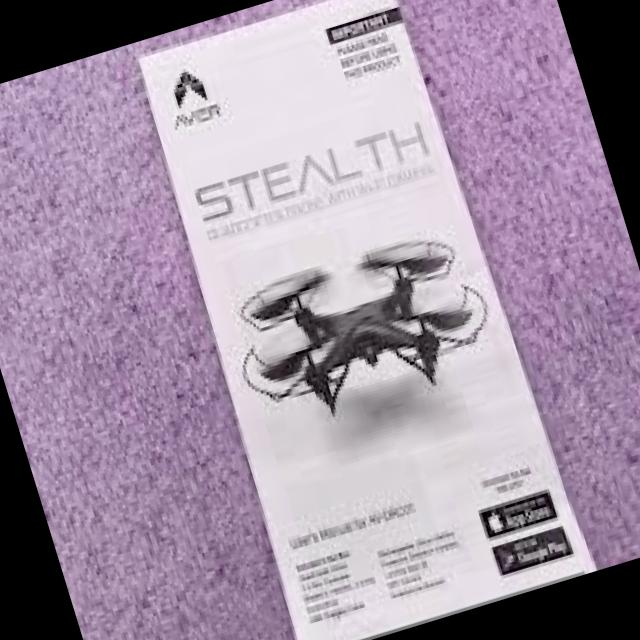drone: (205, 210, 513, 454)
